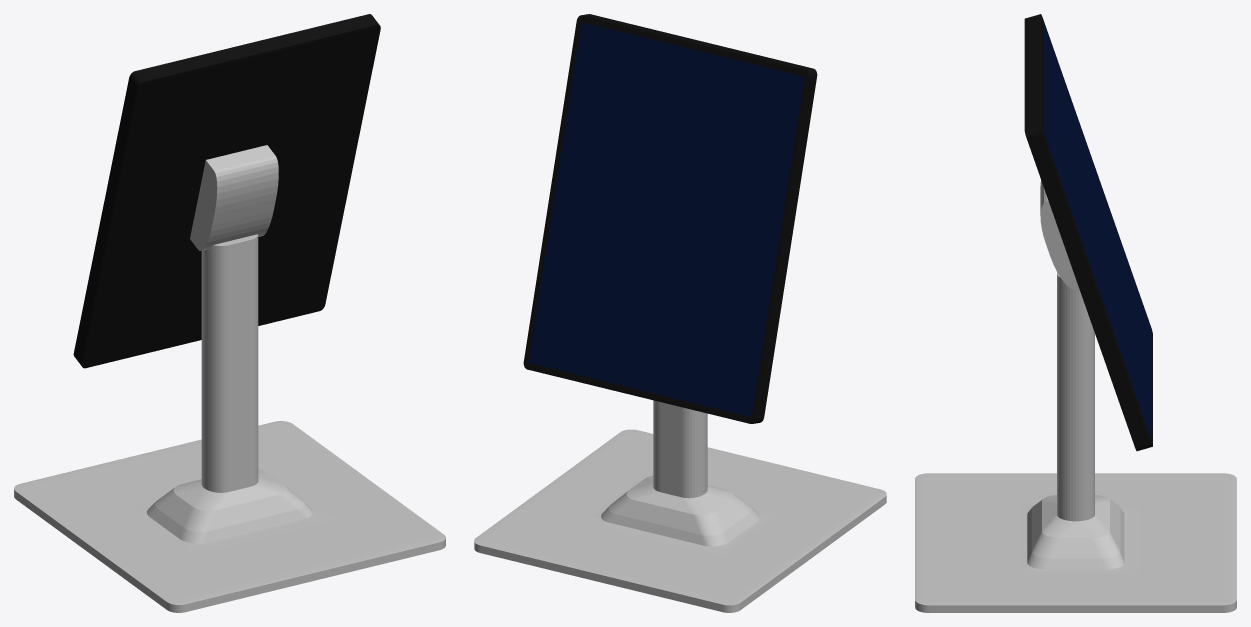
File: ipad.fbx
3 renders of one model, left to right at view 1: azimuth 30°, elevation 25°; view 2: azimuth 150°, elevation 25°; view 3: azimuth 270°, elevation 25°, orthographic. The views are drawn at different scales.
Parts seen in each view (by area): view 1: Ipad; view 2: Ipad; view 3: Ipad.
Part boxes in pixels (<box>): Ipad: <box>14,14,445,612</box>; Ipad: <box>474,14,886,612</box>; Ipad: <box>915,14,1236,612</box>.
Size of the model in its own units: 11.71 by 19.83 by 12.07.
